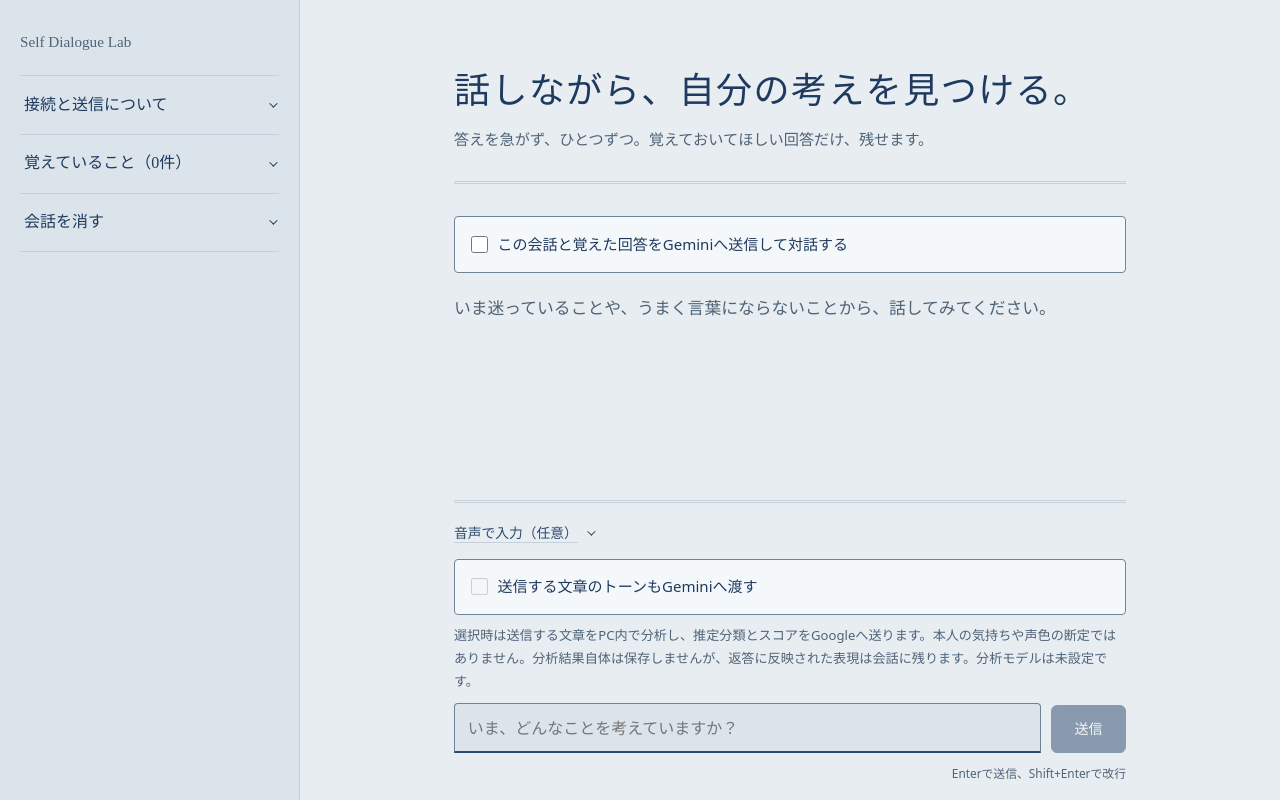
Test case: voice input › shows transcription failures without creating a conversation
Click the heading "音声で入力（任意）": click(524, 533) [454,518,593,549]
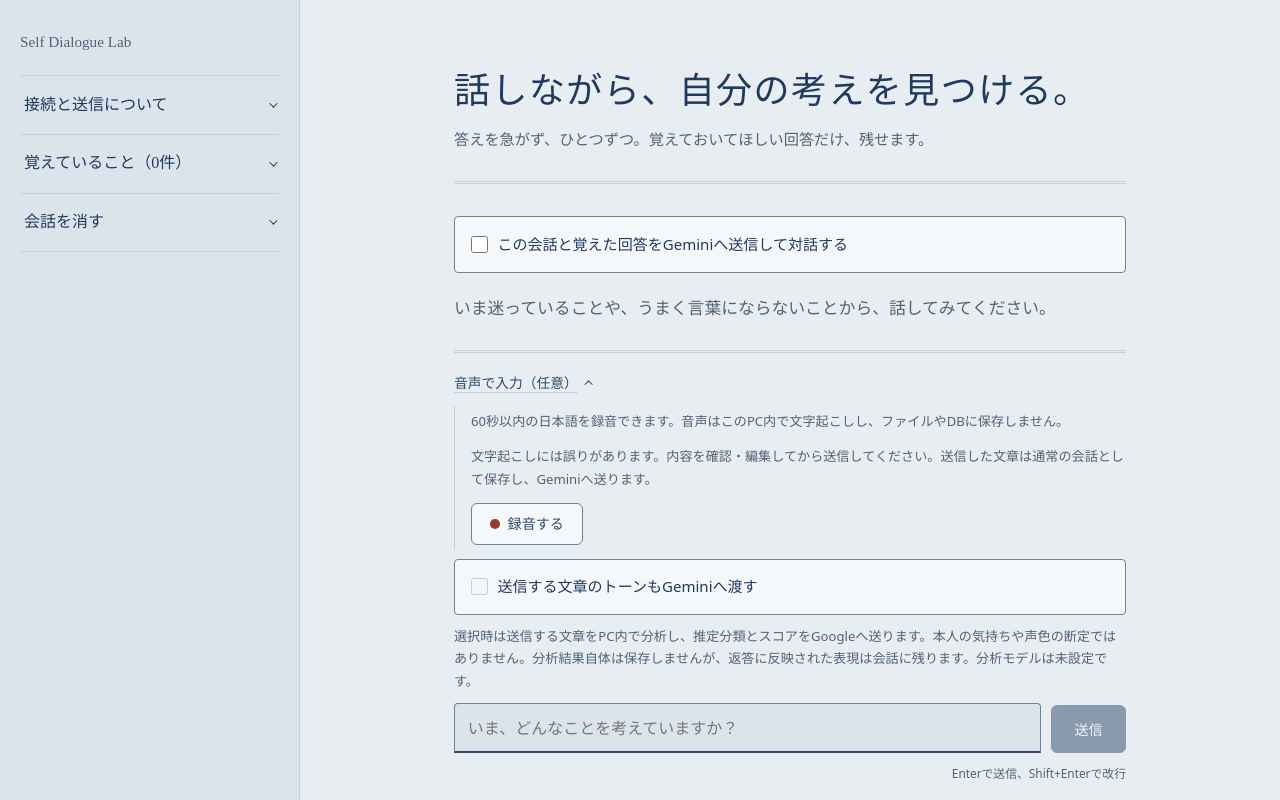
Click the button "録音する": click(527, 524) [471,503,582,545]
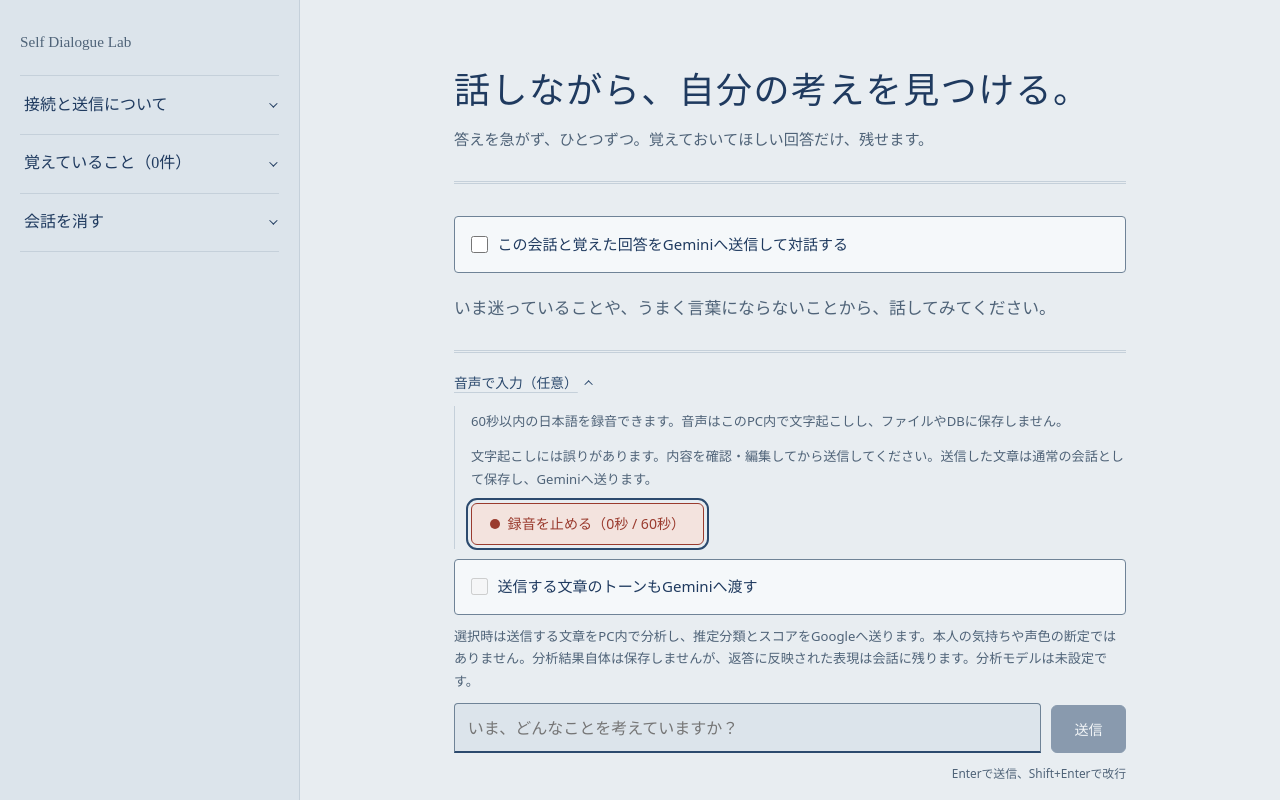
Click the button "録音を止める（0秒 / 60秒）": click(587, 524) [471,503,704,545]
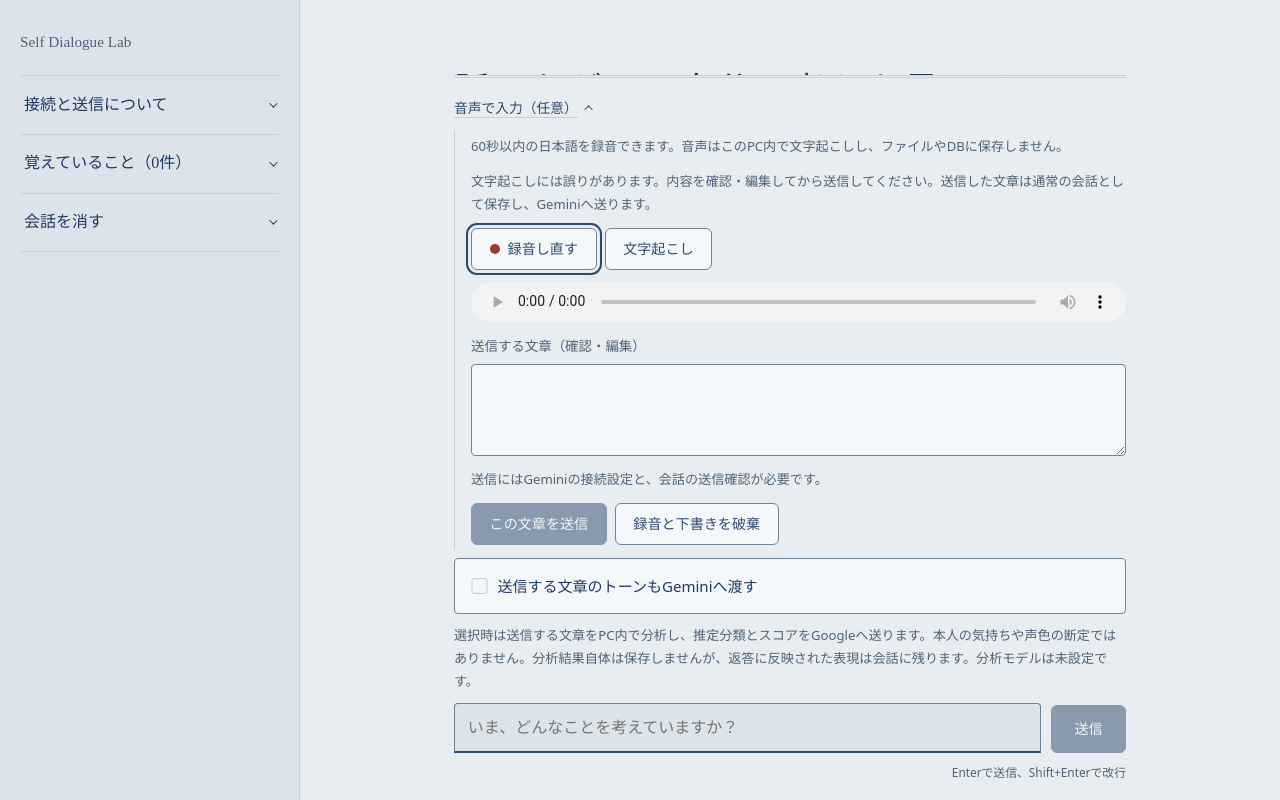
Click the button "文字起こし": click(658, 250) [605,228,712,270]
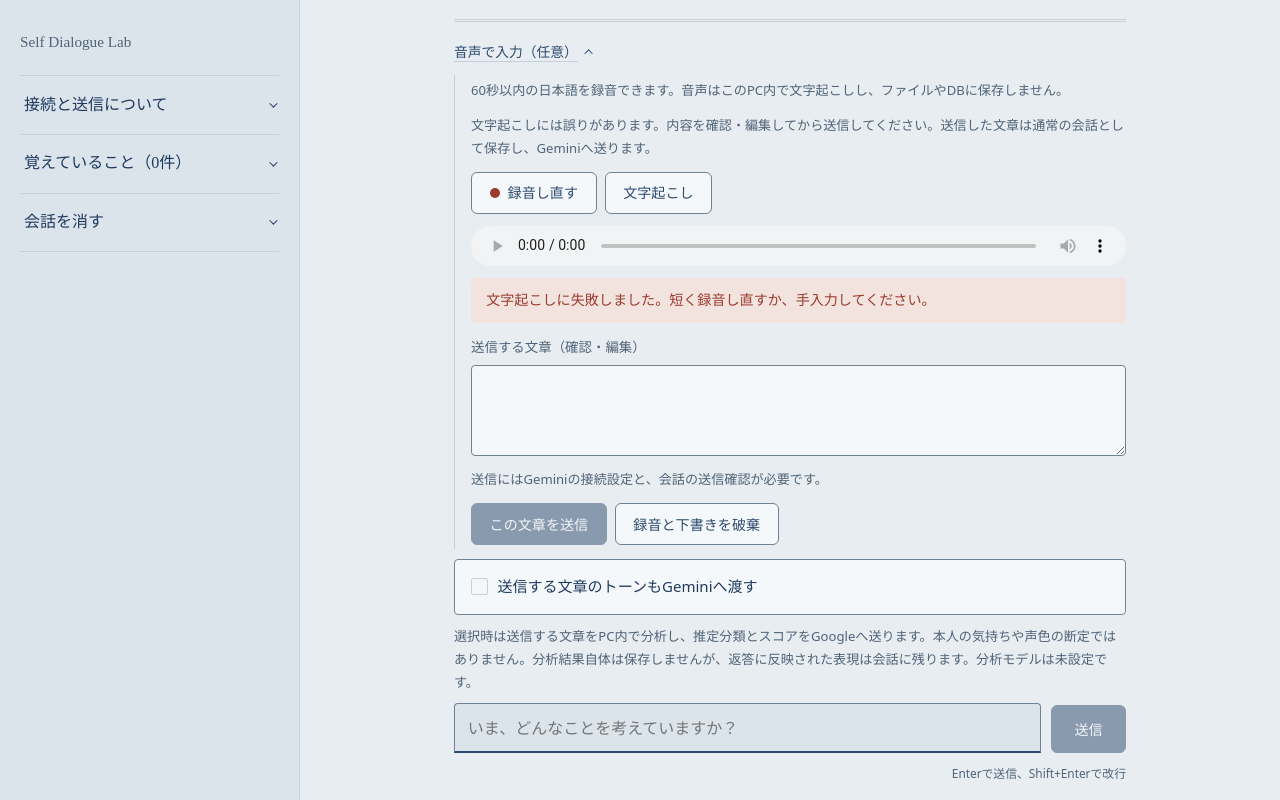
Check: the text "文字起こしに失敗しました。短く録音し直すか、手入力してください。" is shown, box [471,278,1126,322]
